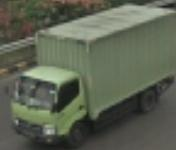truck: (3, 63, 93, 150)
